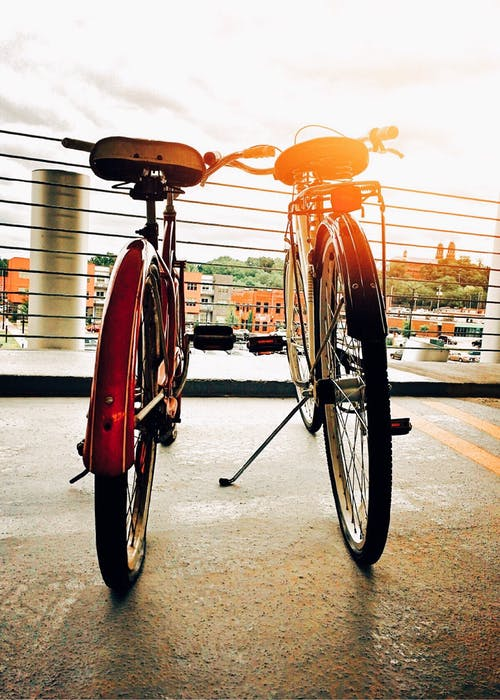bicycle: (55, 112, 244, 604), (247, 115, 418, 578)
